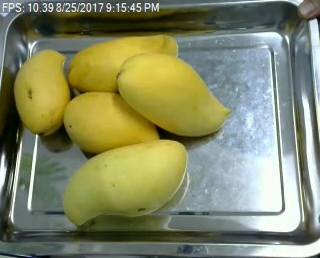Mango: (62, 138, 194, 225), (117, 50, 230, 140), (65, 32, 182, 95), (58, 85, 165, 153), (15, 48, 72, 138)
